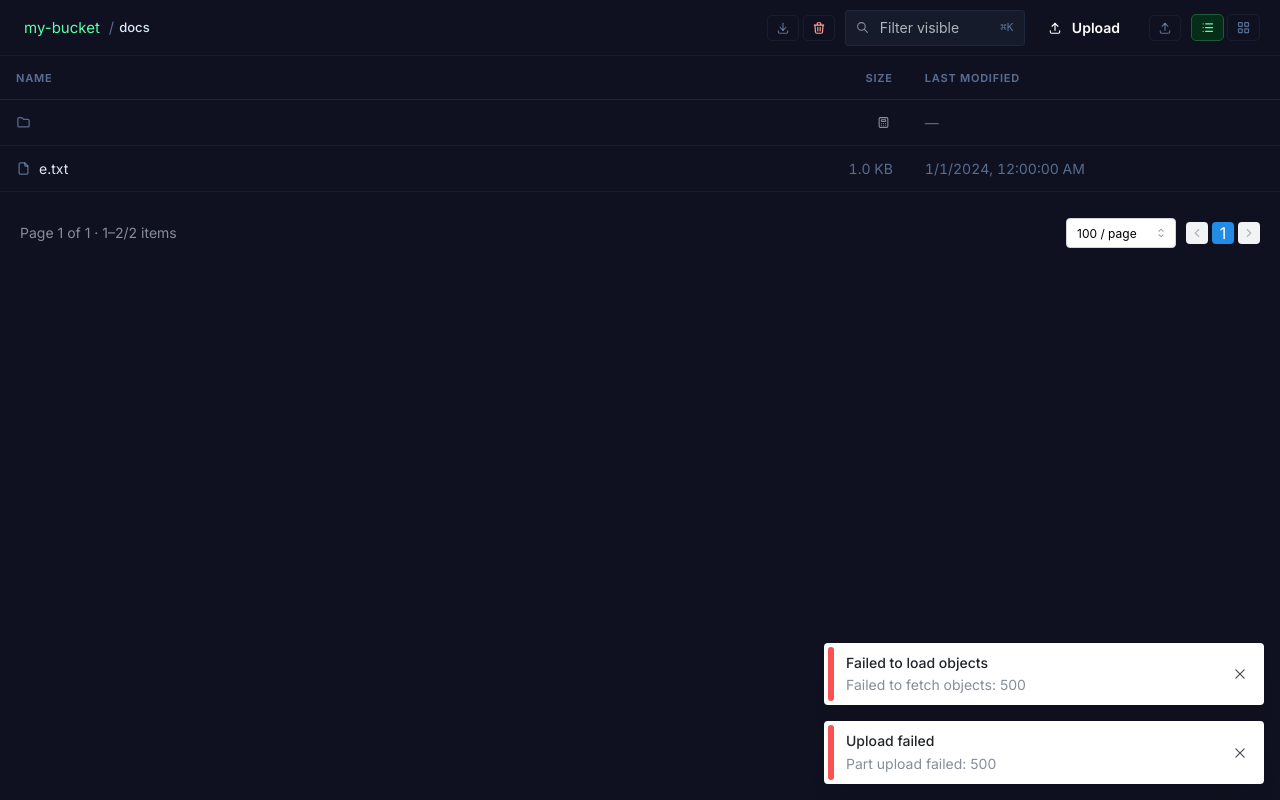
Scenario: ObjectBrowserPage › closes modal and shows orange toast on 207 partial delete failure
The image size is (1280, 800).
What coordinates should you click on to do the following:
click the button named "delete folder docs/"
I would click on:
 (819, 28)
Its box is [803, 14, 835, 40].
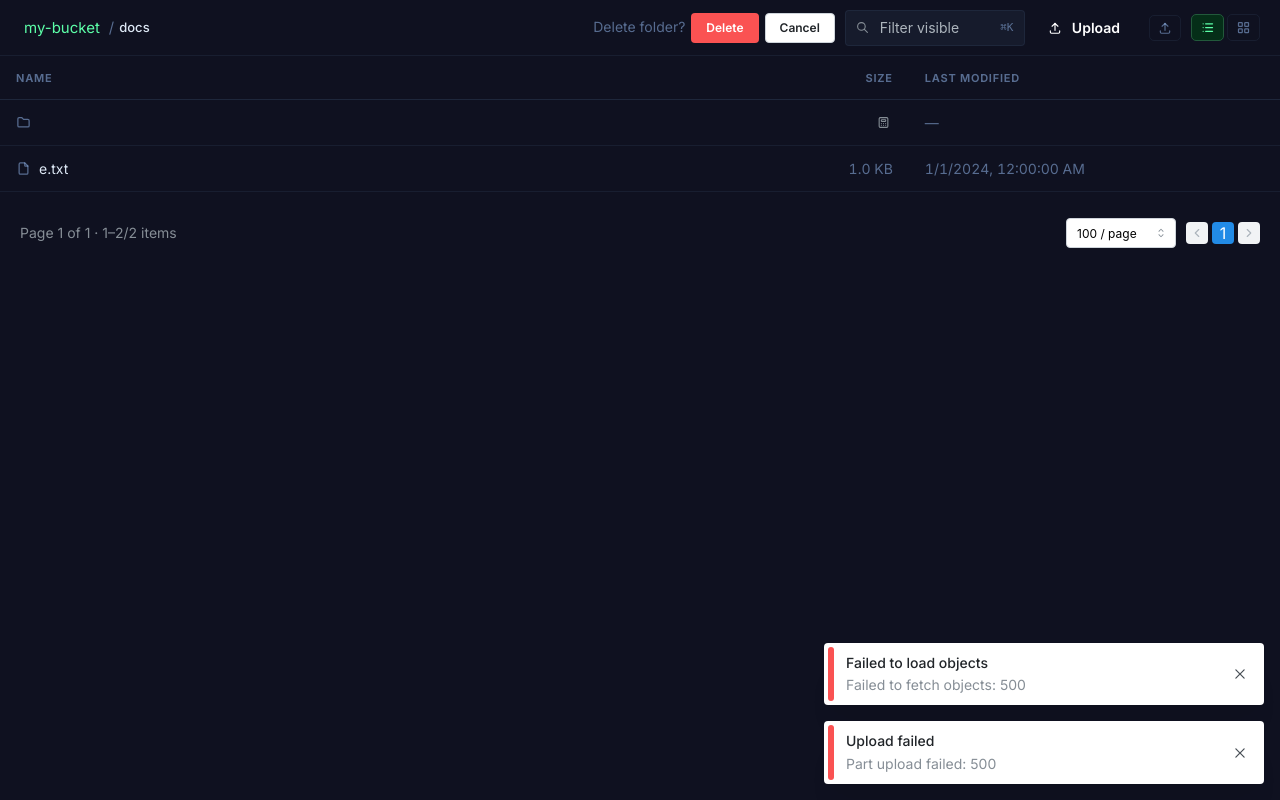
Check: the button "Delete" is shown
What coordinates should you click on to do the following:
click the button "Delete"
I would click on:
 (725, 28)
Its box is [691, 12, 758, 42].
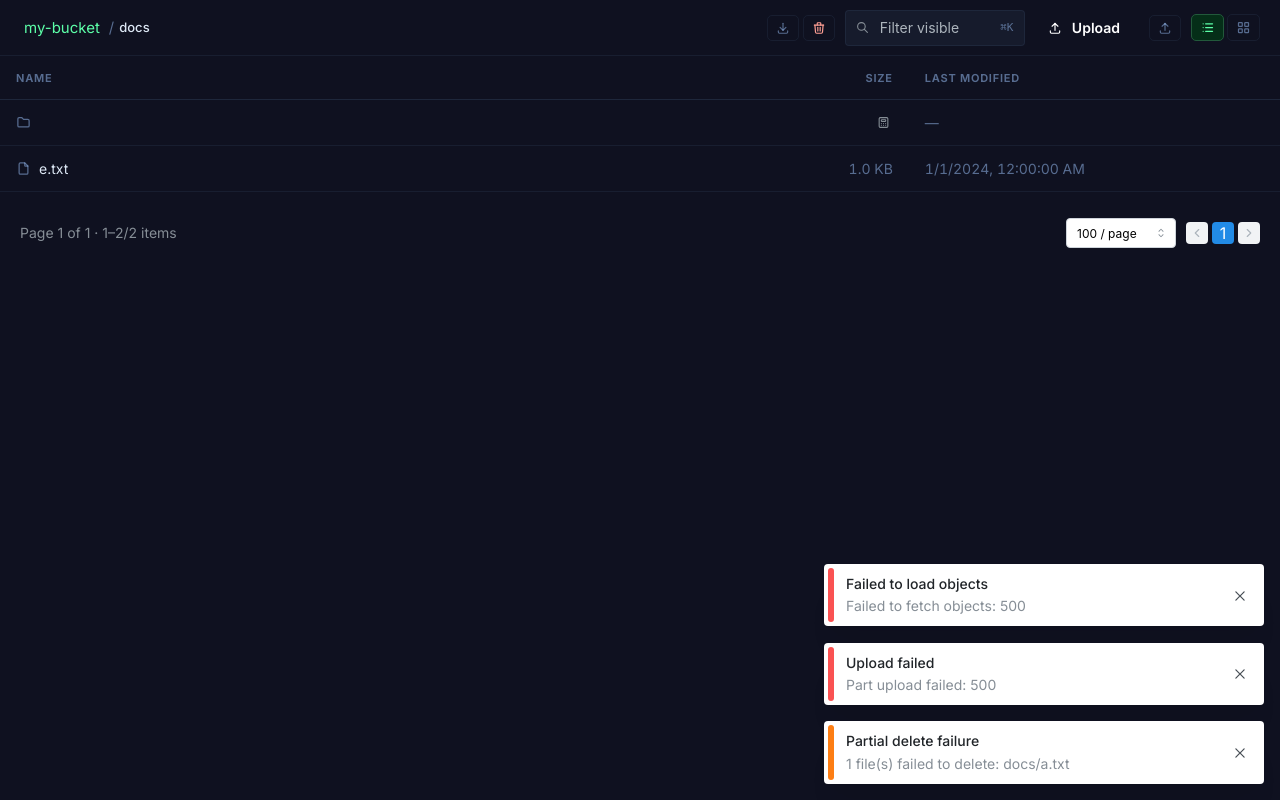
Check: the text "Partial delete failure" is shown, box [846, 732, 979, 749]
